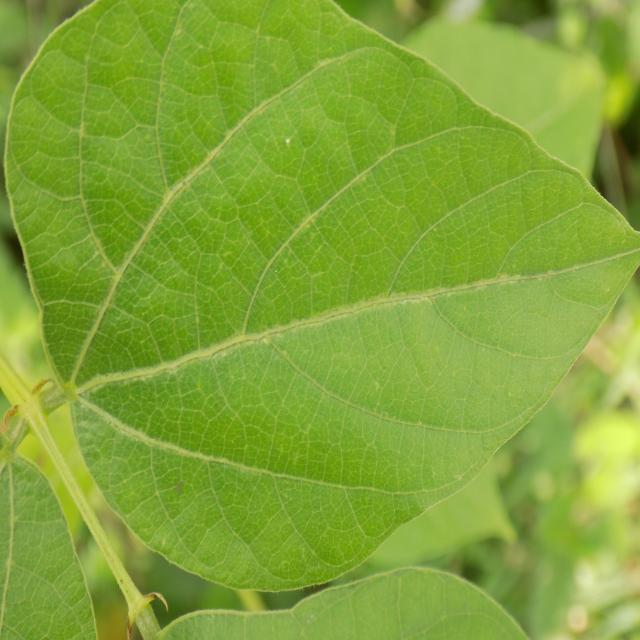Dolicos bean_healthy: (5, 0, 640, 588)
